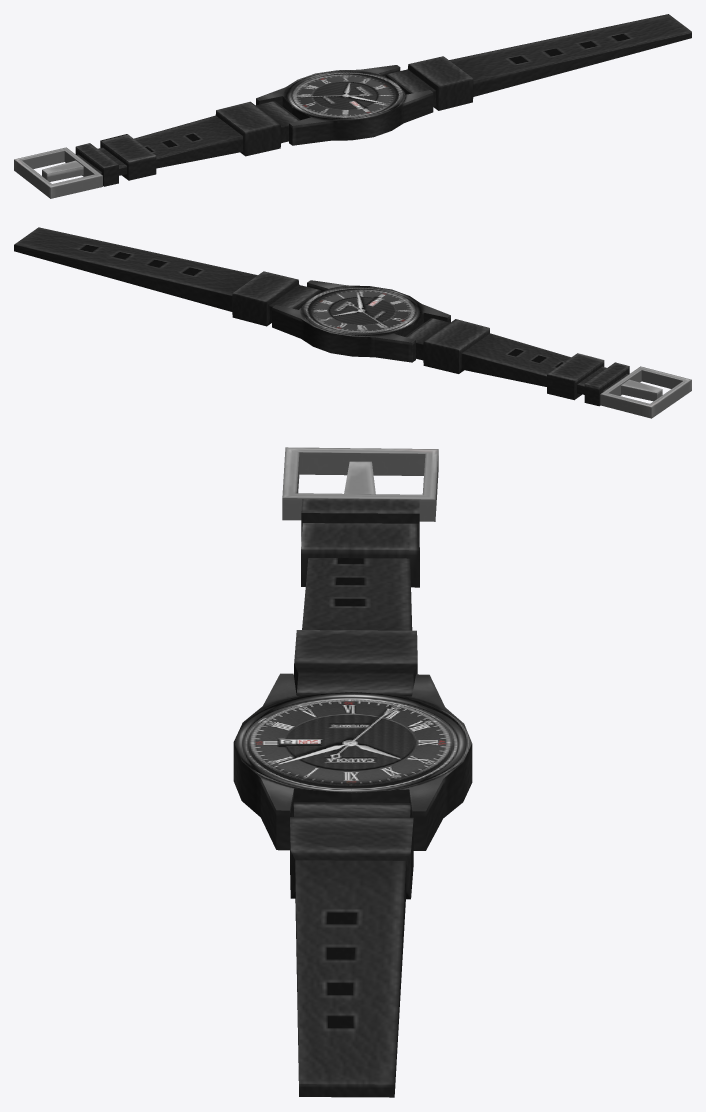
File: ShaShouJia_01_shoubiao_01.FBX
The picture shows the model from 3 angles, top to bottom: view 1: azimuth 30°, elevation 25°; view 2: azimuth 150°, elevation 25°; view 3: azimuth 270°, elevation 25°; orthographic projection. The views are drawn at different scales.
Parts seen in each view (by area): view 1: ShaShouJia_01_shoubiao_01; view 2: ShaShouJia_01_shoubiao_01; view 3: ShaShouJia_01_shoubiao_01.
Part boxes in pixels (x1,y1,x2,y2): ShaShouJia_01_shoubiao_01: (14,14,691,198); ShaShouJia_01_shoubiao_01: (14,227,691,418); ShaShouJia_01_shoubiao_01: (233,447,472,1097).
Bounding box in the file's own units: 190 × 6.79 × 30.46.
